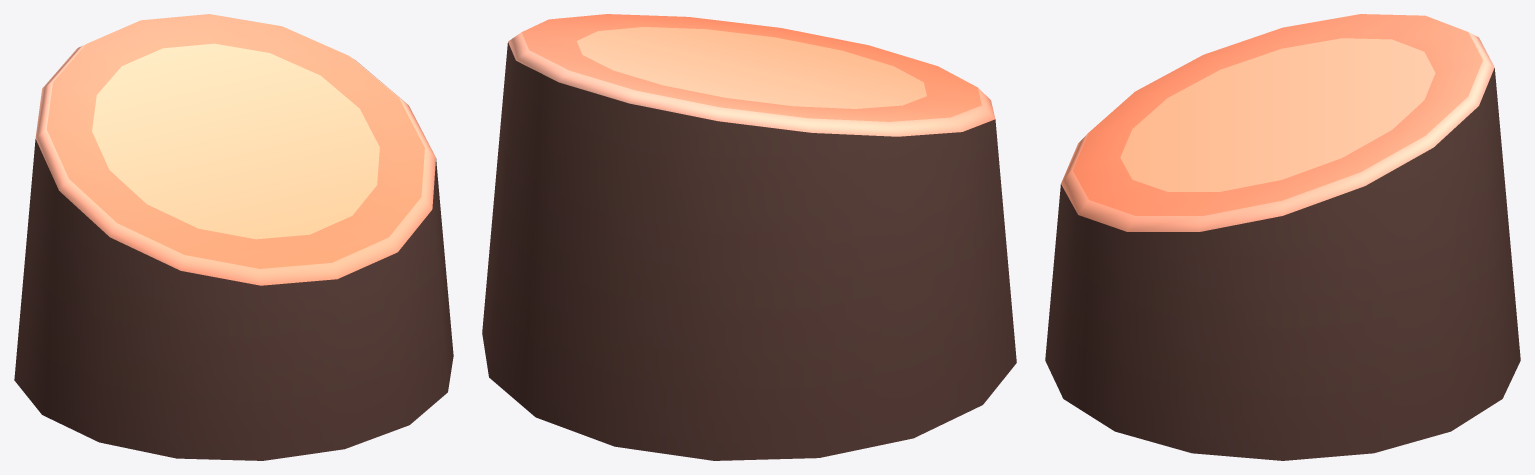
Rendered from stump_001.glb.
The picture shows the model from 3 angles, left to right: view 1: azimuth 30°, elevation 25°; view 2: azimuth 150°, elevation 25°; view 3: azimuth 270°, elevation 25°; orthographic projection. The views are drawn at different scales.
Parts seen in each view (by area): view 1: stump_001; view 2: stump_001; view 3: stump_001.
Part boxes in pixels (bbox=[...]): stump_001: bbox=[14, 14, 453, 460]; stump_001: bbox=[482, 14, 1016, 460]; stump_001: bbox=[1045, 14, 1520, 460].
Size of the model in its own units: 1.33 by 0.9278 by 1.33.
1 material, 1 textured.
